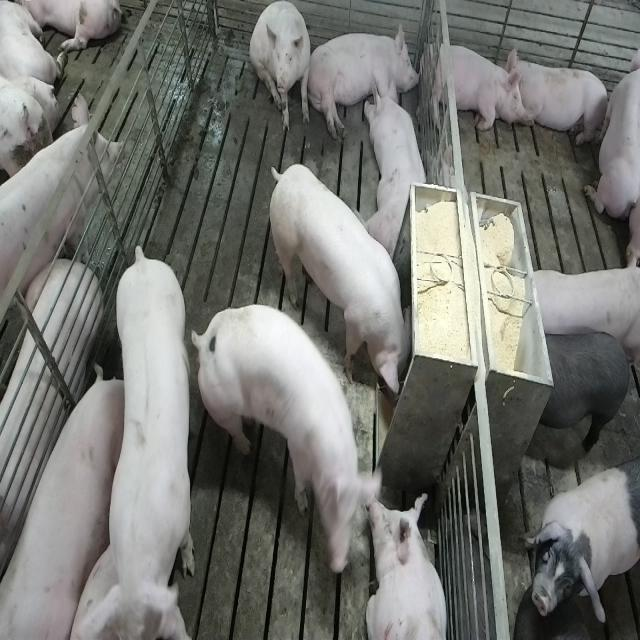Feeding: (272, 161, 421, 406)
Lateral_lying: (0, 262, 99, 605), (306, 20, 422, 142)
Sitting: (250, 2, 313, 134)
Standing: (191, 302, 385, 582), (83, 246, 198, 639), (0, 96, 122, 348), (526, 463, 637, 623), (530, 327, 636, 466), (522, 268, 637, 365)
Sternal_lying: (367, 489, 450, 640), (367, 74, 431, 258), (584, 34, 637, 230), (509, 51, 611, 150), (425, 36, 524, 134)
